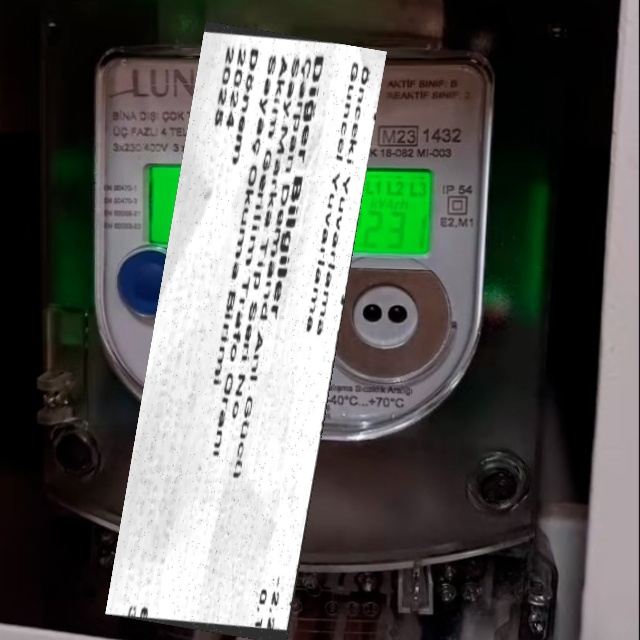electricity-bill: (105, 21, 387, 639)
